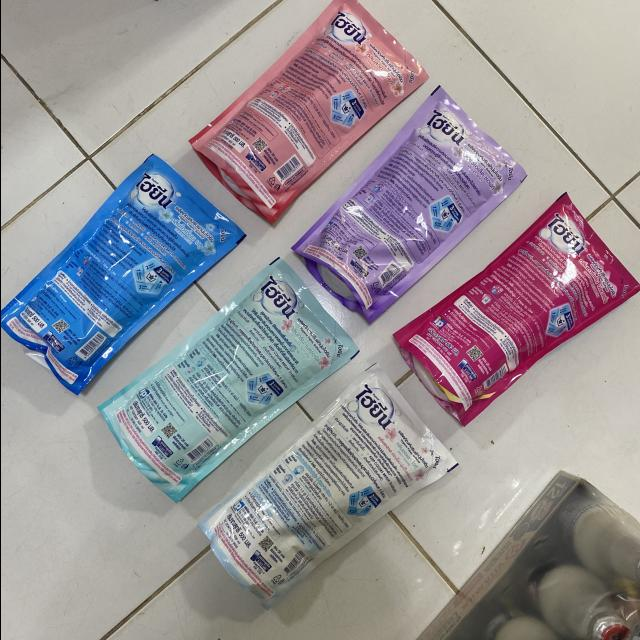plastik: (198, 365, 457, 609), (97, 259, 358, 501), (0, 155, 244, 394), (394, 194, 640, 426), (291, 87, 525, 321), (189, 0, 427, 222)
